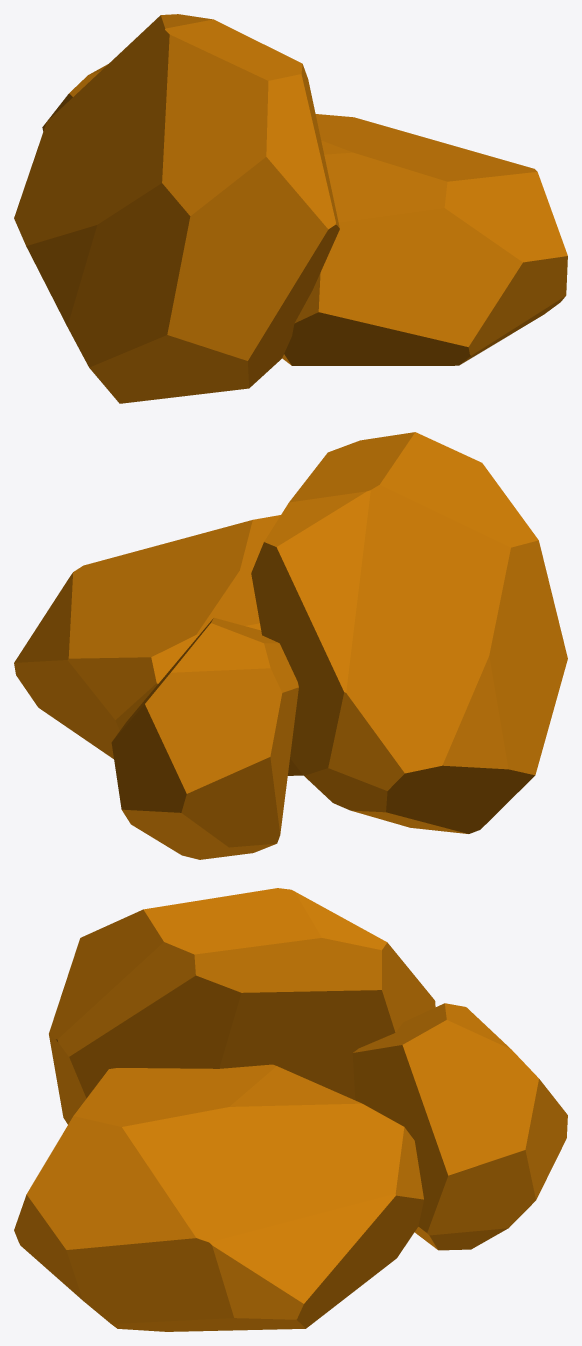
File: brigesRock_Type2_02_mesh_001.fbx
3 views of the same model, one above another, from view 1: azimuth 30°, elevation 25°; view 2: azimuth 150°, elevation 25°; view 3: azimuth 270°, elevation 25° (orthographic). The views are drawn at different scales.
Visible parts, largest first — view 1: Rock Type2 02 mesh.001; view 2: Rock Type2 02 mesh.001; view 3: Rock Type2 02 mesh.001.
Boxes of the visible parts, x1,y1,x2,y2 form: Rock Type2 02 mesh.001: (14,14,567,403); Rock Type2 02 mesh.001: (14,432,567,859); Rock Type2 02 mesh.001: (14,888,567,1331).
Size of the model in its own units: 167 by 117 by 174.
